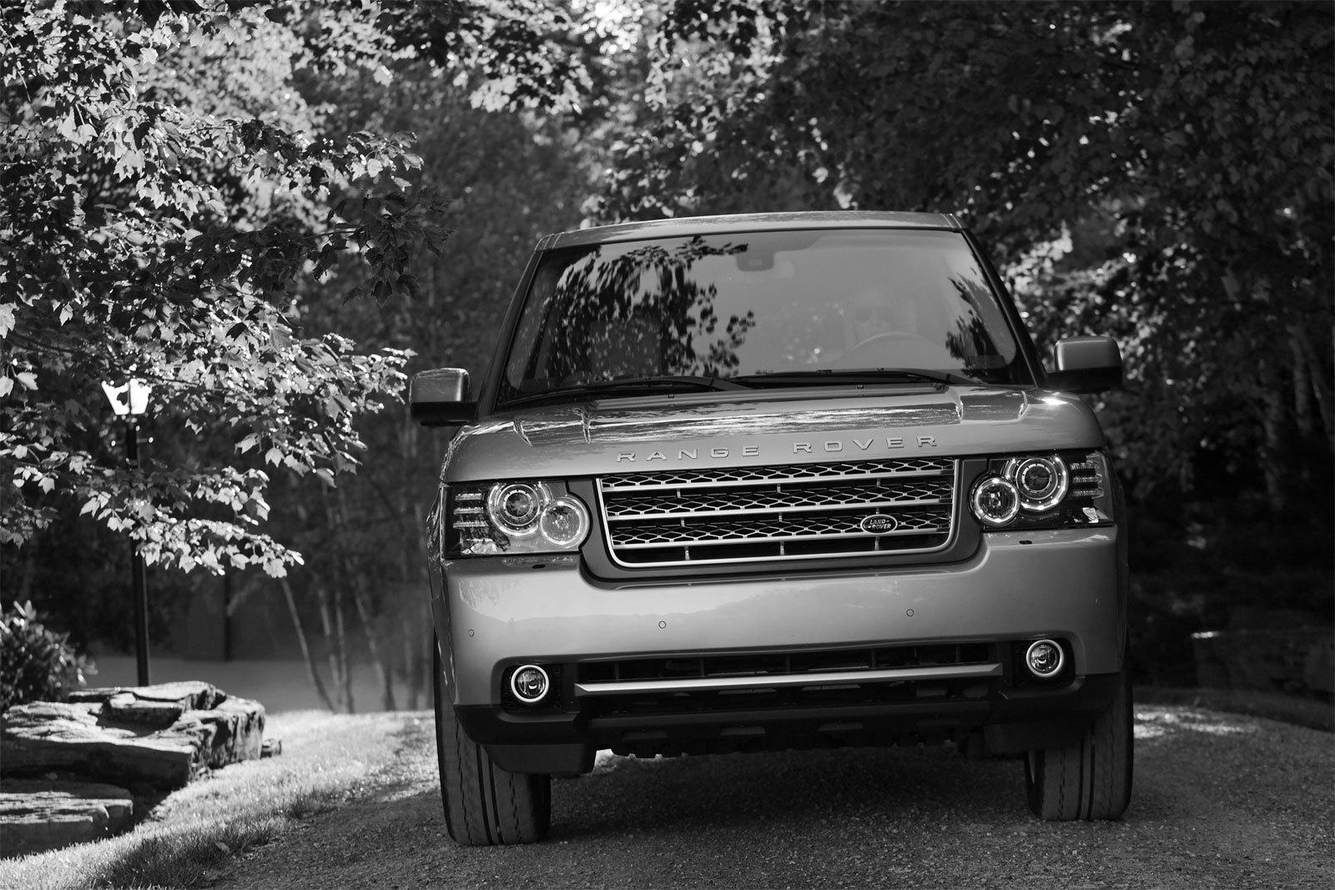car: (424, 200, 1151, 797)
